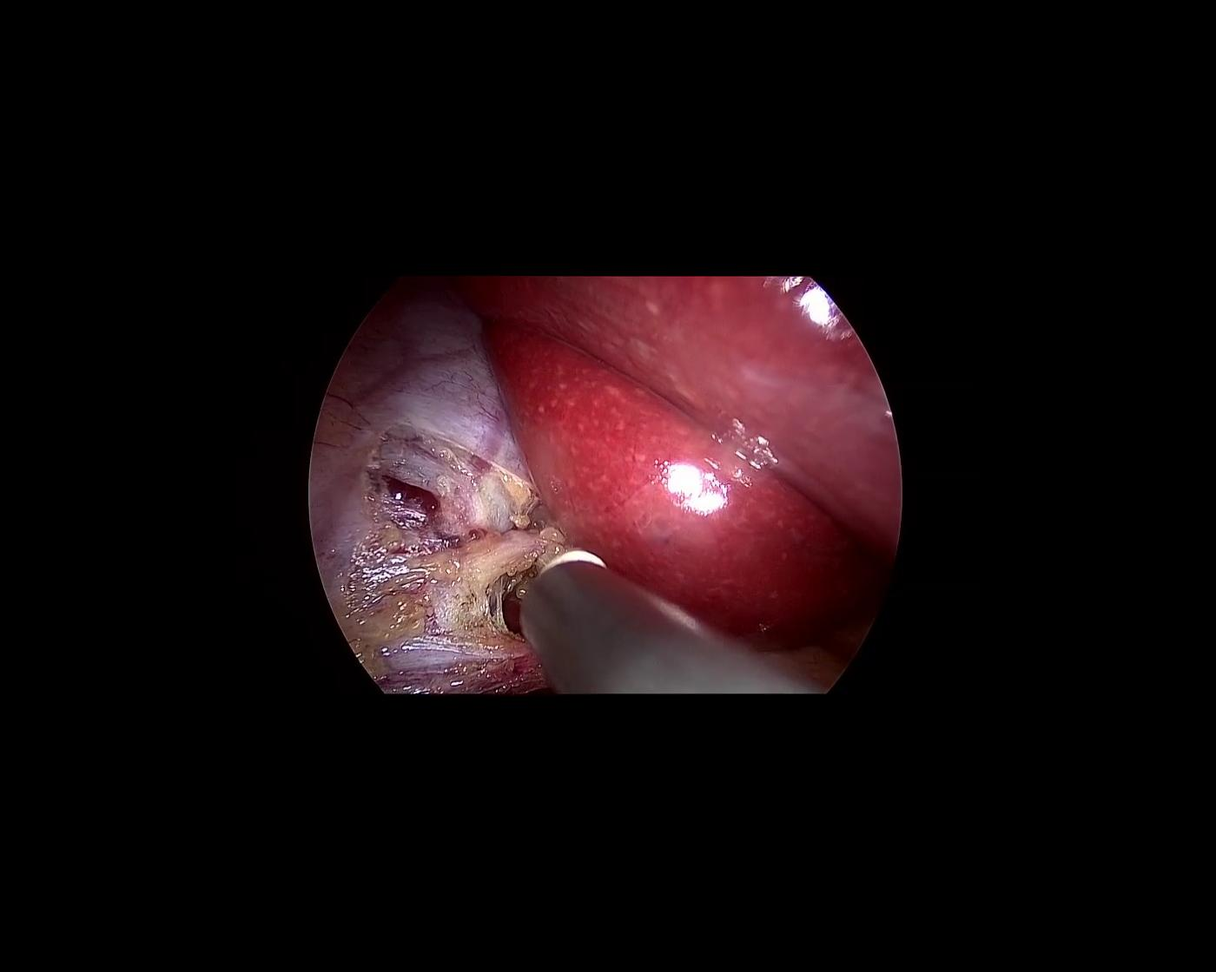Cautery: (488, 531, 822, 810)
Gallbladder: (288, 281, 579, 717)
Liver: (459, 276, 903, 661)
